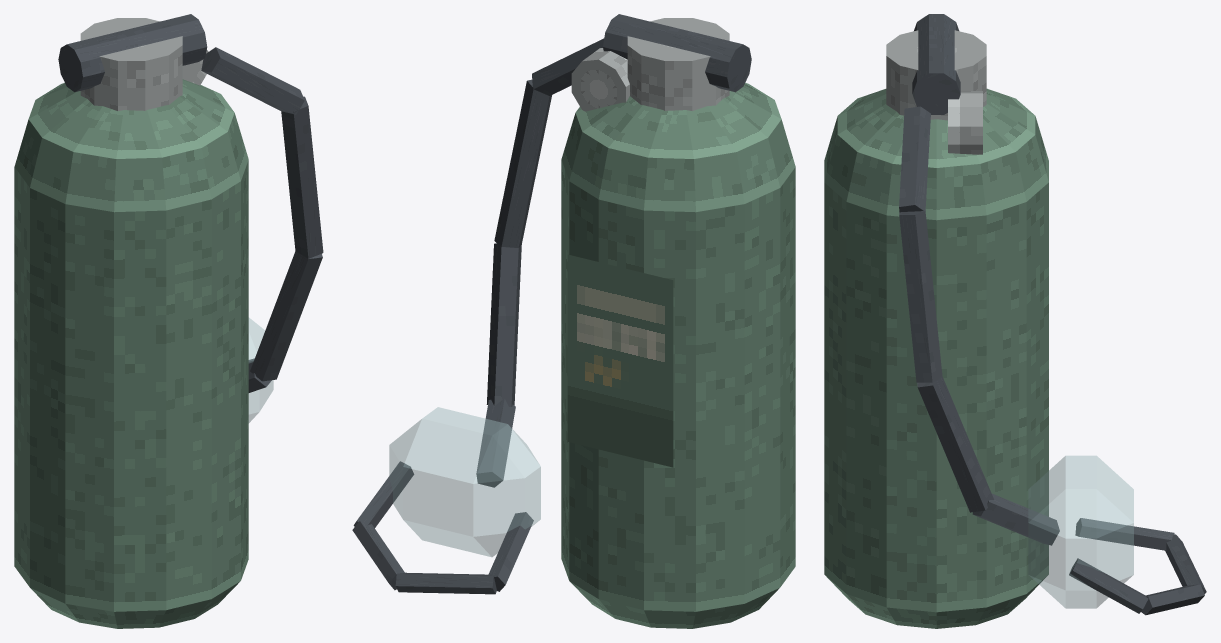
The model's file is oxygen_tank.glb.
3 views of the same model, side by side, from view 1: azimuth 30°, elevation 25°; view 2: azimuth 150°, elevation 25°; view 3: azimuth 270°, elevation 25° (orthographic).
Visible parts, largest first — view 1: block_gas cylinder, block_valve collar, block_external valve wheel, block_looped delivery hose 1, block_looped delivery hose 2, block_looped delivery hose 0, block_packed oxygen face mask, block_regulator dial shell; view 2: block_gas cylinder, block_cylinder markings, block_packed oxygen face mask, block_valve collar, block_looped delivery hose 1, block_external valve wheel, block_looped delivery hose 2, block_regulator dial shell, block_looped delivery hose 3, block_mask elastic 1, block_mask elastic 0, block_looped delivery hose 0 (+2 smaller); view 3: block_gas cylinder, block_packed oxygen face mask, block_looped delivery hose 1, block_valve collar, block_external valve wheel, block_looped delivery hose 2, block_looped delivery hose 0, block_regulator dial shell, block_looped delivery hose 3, block_mask elastic 0, block_mask elastic 3, block_mask elastic 2 (+1 smaller).
Boxes of the visible parts, x1,y1,x2,y2 form: block_gas cylinder: (14, 79, 248, 628); block_valve collar: (80, 18, 182, 110); block_external valve wheel: (58, 14, 207, 92); block_looped delivery hose 1: (281, 96, 323, 258); block_looped delivery hose 2: (250, 251, 322, 381); block_looped delivery hose 0: (201, 47, 304, 114); block_packed oxygen face mask: (248, 318, 273, 422); block_regulator dial shell: (182, 49, 208, 85); block_gas cylinder: (561, 83, 795, 628); block_cylinder markings: (567, 254, 673, 467); block_packed oxygen face mask: (389, 407, 540, 557); block_valve collar: (627, 18, 729, 110); block_looped delivery hose 1: (494, 79, 551, 247); block_external valve wheel: (603, 14, 751, 92); block_looped delivery hose 2: (486, 243, 521, 406); block_regulator dial shell: (571, 48, 629, 111); block_looped delivery hose 3: (476, 398, 515, 487); block_mask elastic 1: (395, 572, 496, 594); block_mask elastic 0: (488, 512, 533, 591); block_looped delivery hose 0: (532, 38, 604, 95); block_gas cylinder: (824, 88, 1048, 628); block_packed oxygen face mask: (1028, 455, 1133, 608); block_looped delivery hose 1: (899, 210, 942, 382); block_valve collar: (886, 30, 986, 120); block_external valve wheel: (912, 14, 960, 114); block_looped delivery hose 2: (917, 376, 993, 512); block_looped delivery hose 0: (899, 106, 930, 212); block_regulator dial shell: (948, 91, 982, 154); block_looped delivery hose 3: (972, 493, 1059, 545); block_mask elastic 0: (1075, 518, 1174, 550); block_mask elastic 3: (1069, 558, 1148, 613); block_mask elastic 2: (1141, 584, 1204, 615).
Bounding box in the file's own units: 0.2533 × 0.42 × 0.266.
Materials: 3 (3 with a texture image).
